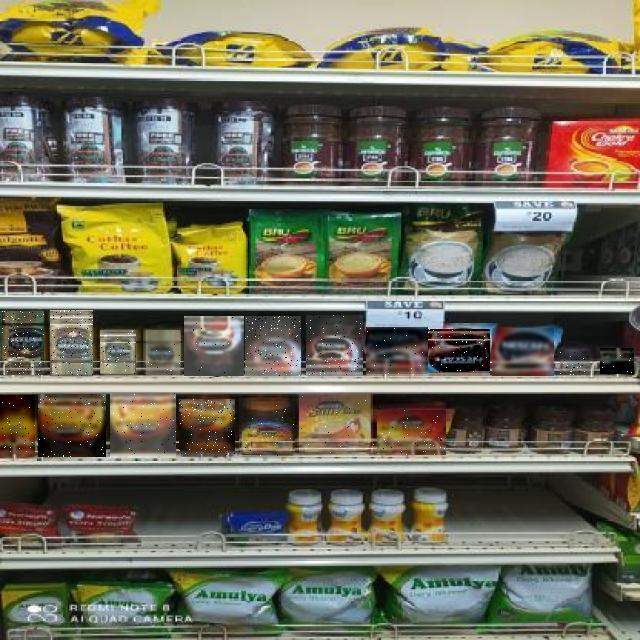Coffee: (300, 394, 376, 454), (39, 394, 107, 457), (110, 394, 176, 458), (184, 316, 244, 376), (306, 316, 363, 376), (245, 316, 301, 376), (239, 399, 295, 457), (179, 400, 235, 456), (377, 410, 446, 455), (492, 329, 554, 377), (366, 328, 428, 376), (428, 330, 490, 376), (50, 310, 93, 376), (2, 311, 44, 375), (0, 395, 35, 454), (101, 331, 137, 375), (146, 330, 180, 375), (600, 349, 634, 375), (561, 350, 591, 375)
